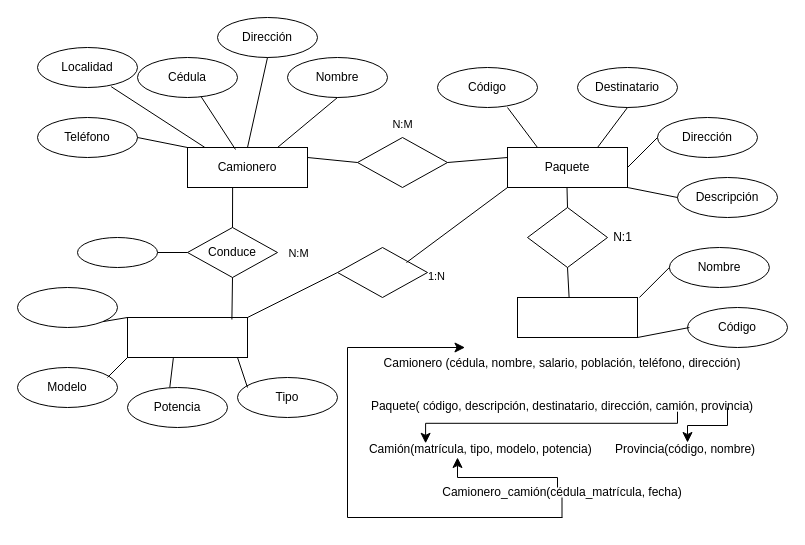
The diagram is 805 pixels wide and 545 high, and some of its shapes have lost their labels. The box of each missing label's shape, as (x1, y1, x2, y2) in pixels:
Camión: (126, 316, 248, 358)
Distribuye: (336, 246, 428, 298)
Fecha: (76, 236, 158, 268)
LLega: (526, 206, 608, 268)
Matrícula: (16, 286, 118, 328)
Provincia: (516, 296, 638, 338)
Vende: (356, 136, 448, 188)
